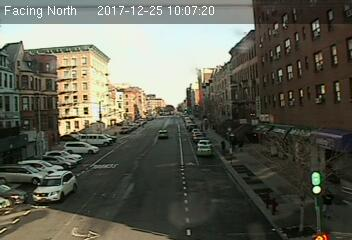car: (30, 169, 77, 204), (196, 144, 212, 155), (158, 128, 168, 137)
